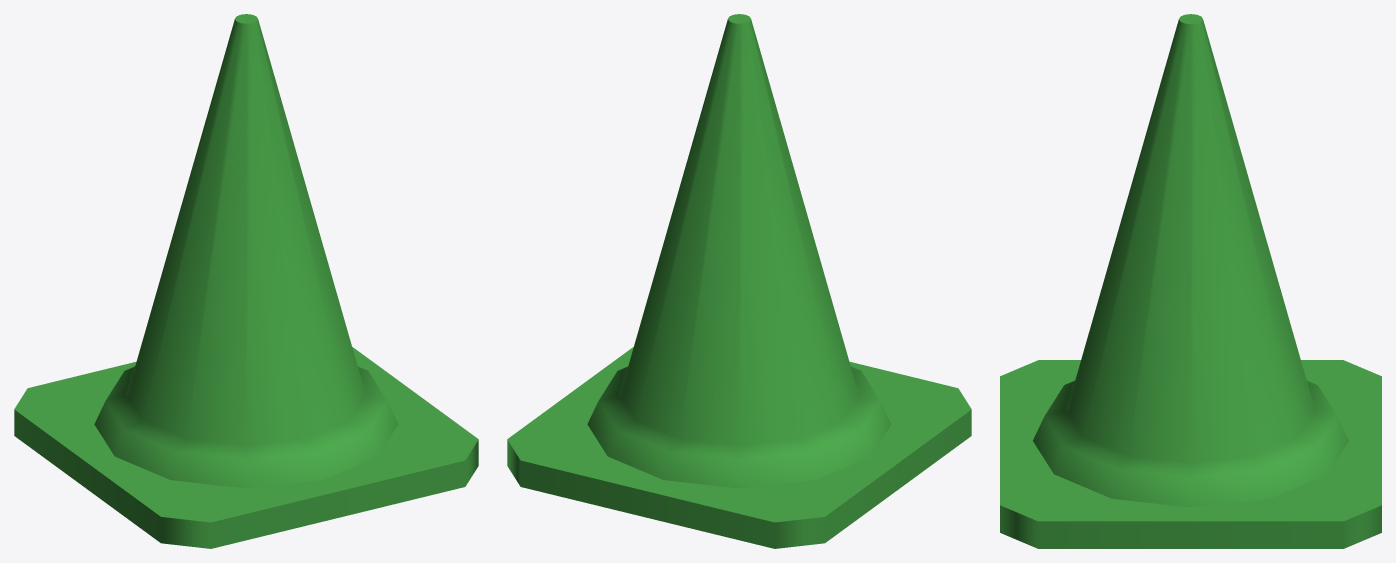
File: CONUS_LP.fbx
3 views of the same model, side by side, from view 1: azimuth 30°, elevation 25°; view 2: azimuth 150°, elevation 25°; view 3: azimuth 270°, elevation 25° (orthographic). The views are drawn at different scales.
Visible parts, largest first — view 1: polySurface1; view 2: polySurface1; view 3: polySurface1.
Part boxes in pixels (bbox=[...]): polySurface1: bbox=[14, 14, 478, 548]; polySurface1: bbox=[507, 14, 971, 548]; polySurface1: bbox=[1000, 14, 1381, 548].
Bounding box in the file's own units: 20.6 × 20.6 × 26.75.
